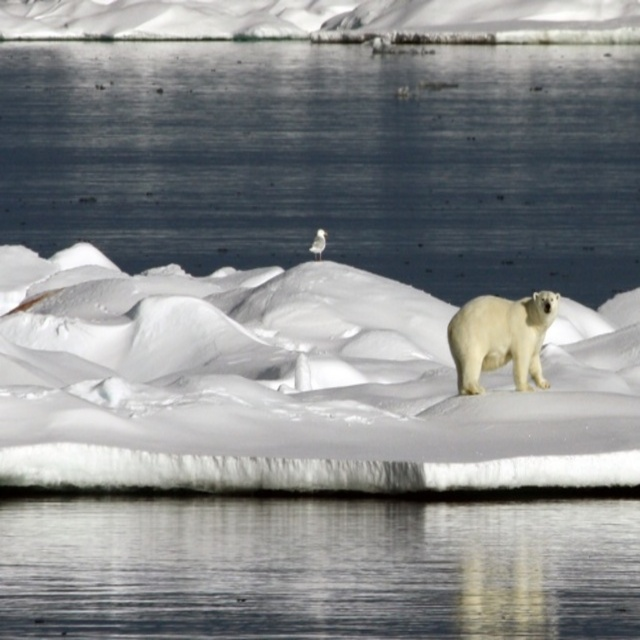Polar bear: (444, 291, 560, 394)
